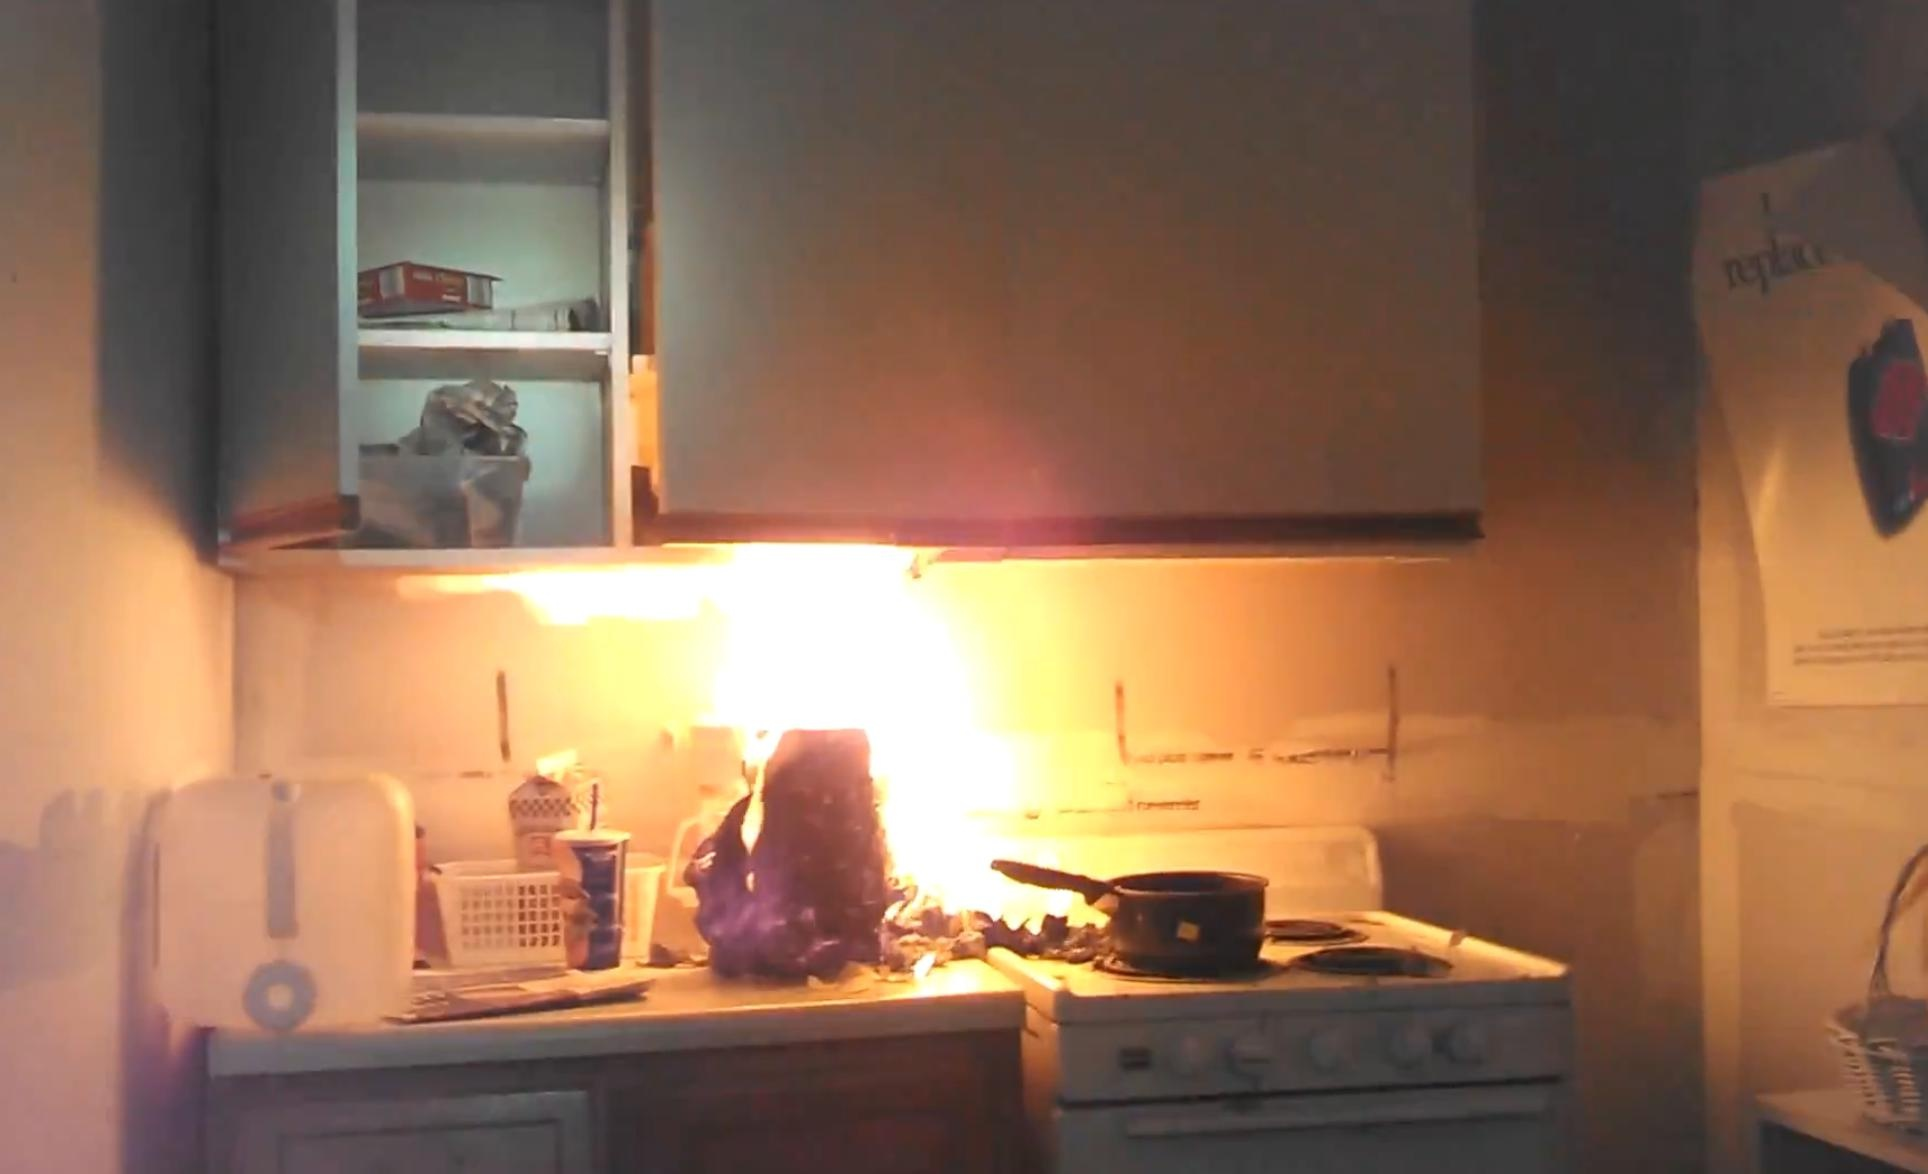fire: (534, 543, 1084, 945)
